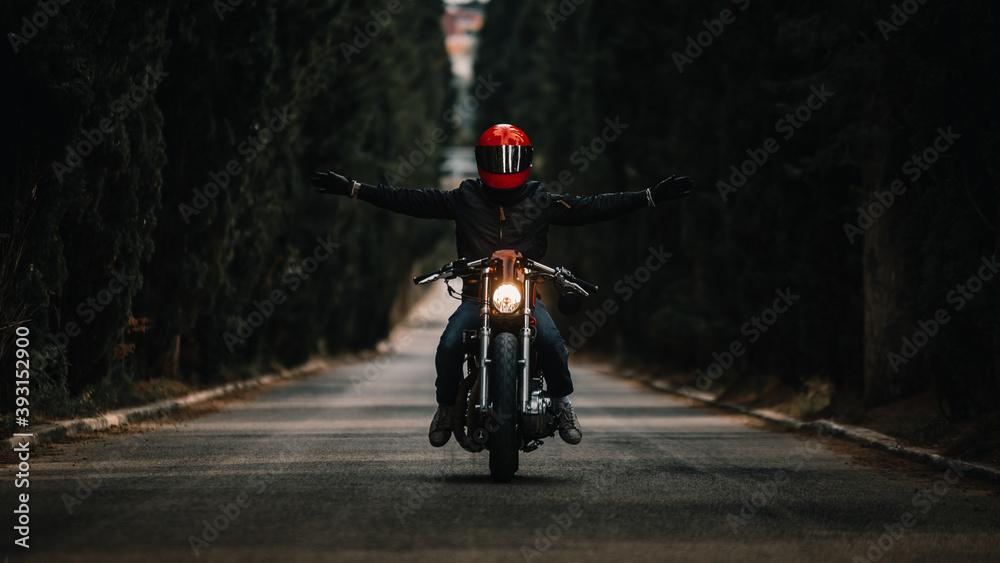helmet: (475, 122, 534, 192)
